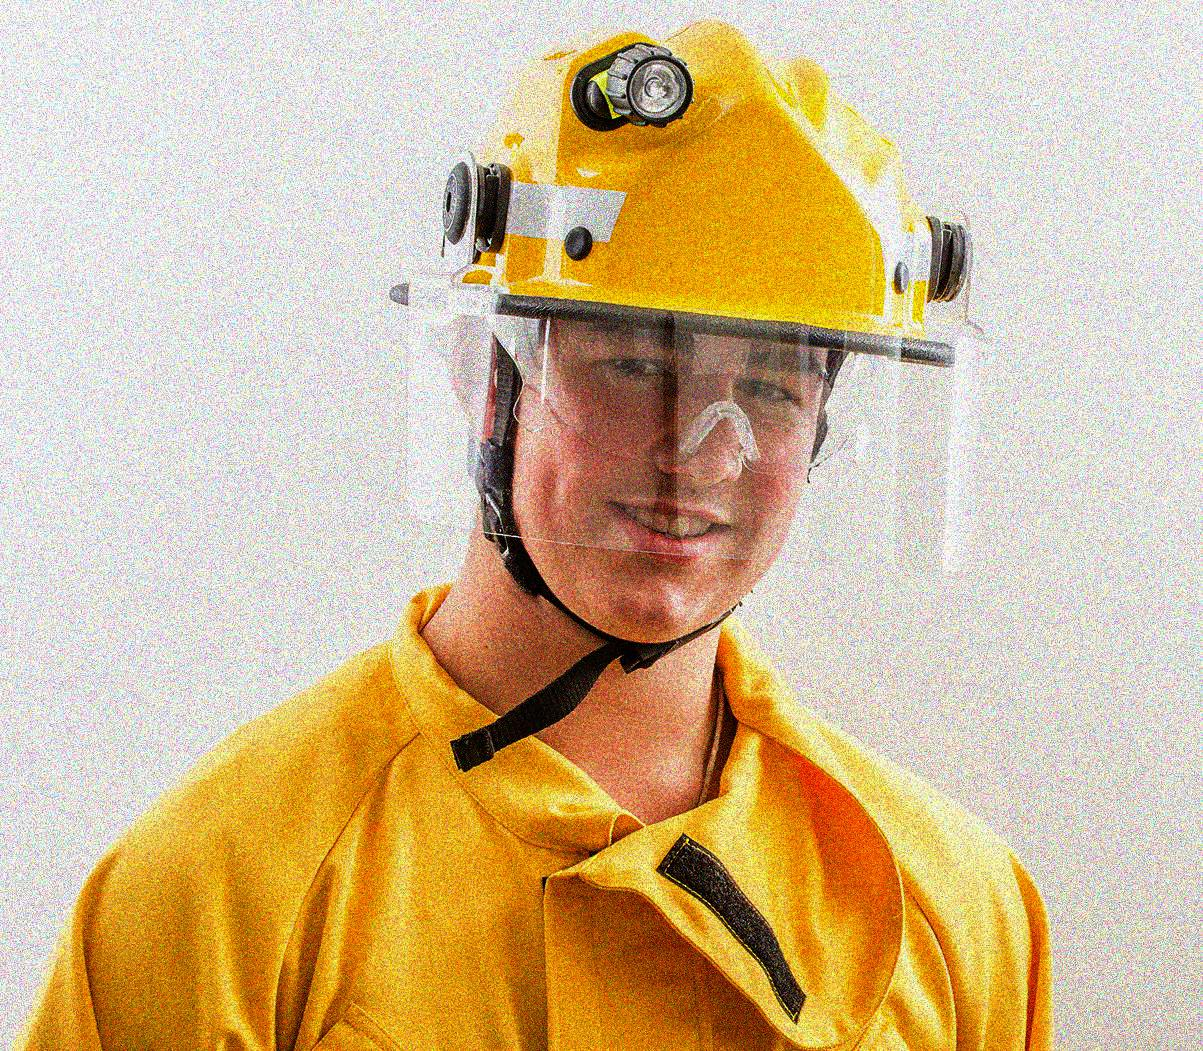helmet: (412, 15, 966, 647)
